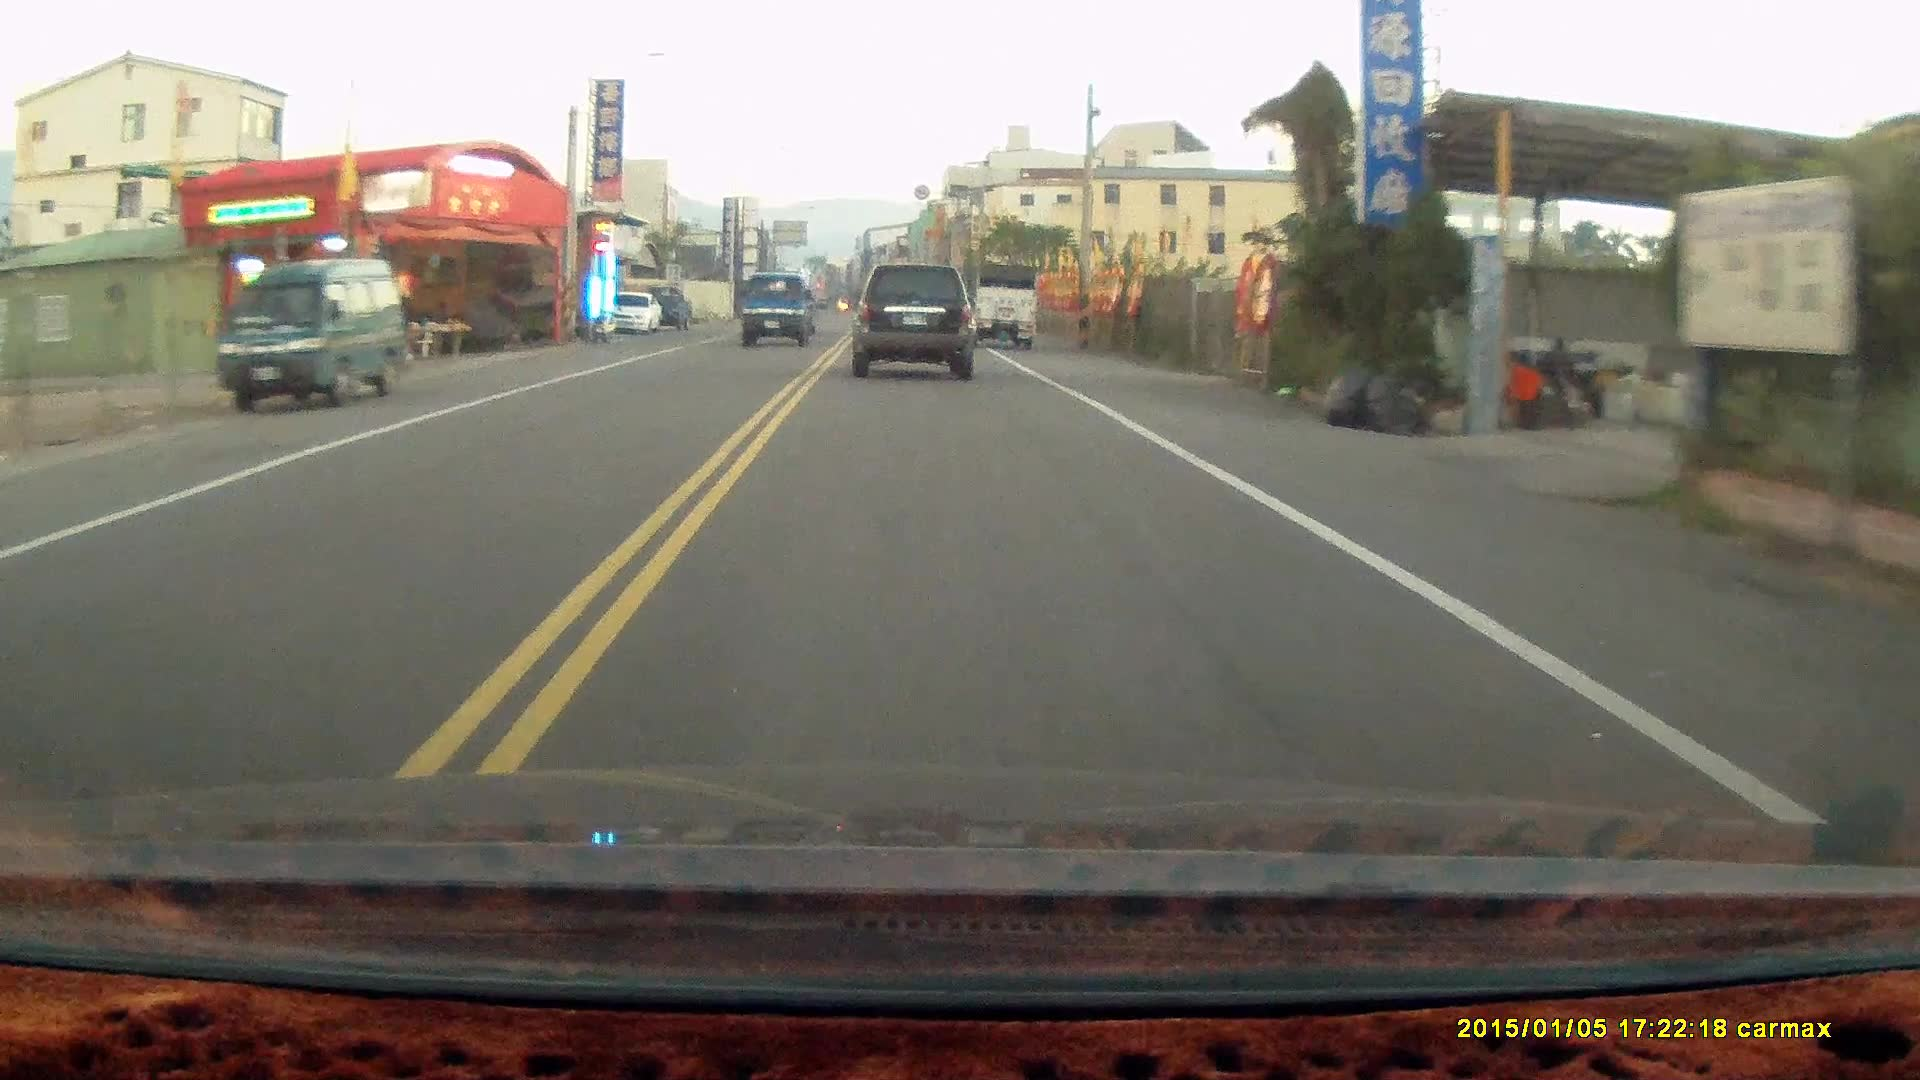vehicle: (220, 258, 410, 418), (855, 266, 977, 380), (947, 258, 1040, 351), (741, 280, 820, 357), (603, 291, 665, 338)
